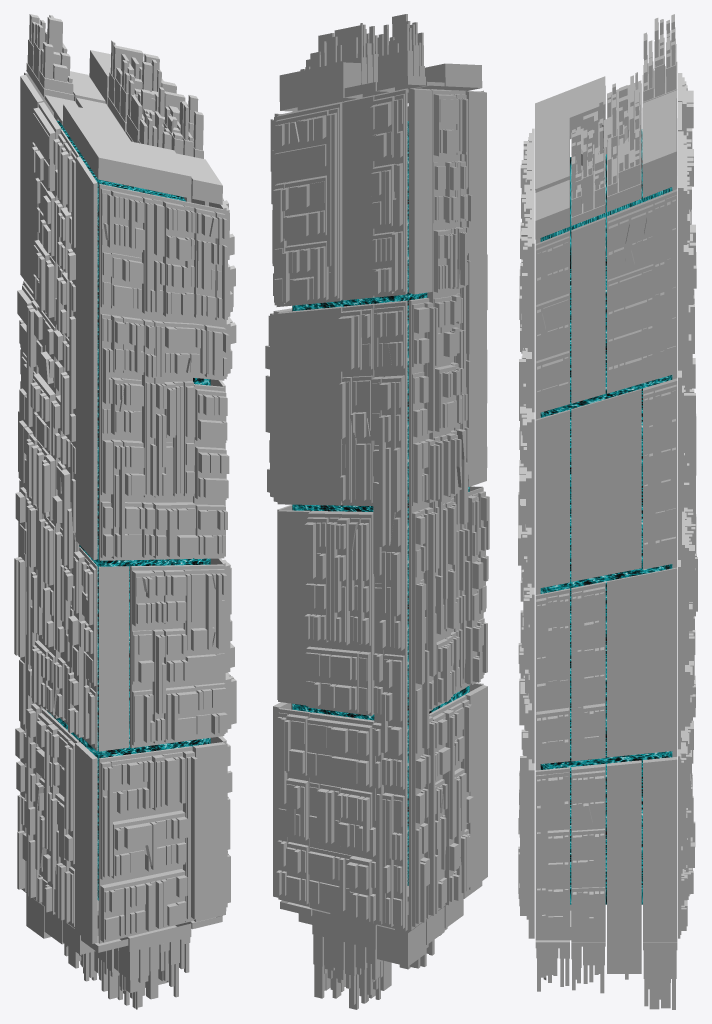
3 renders of one model, left to right at view 1: azimuth 30°, elevation 25°; view 2: azimuth 150°, elevation 25°; view 3: azimuth 270°, elevation 25°, orthographic. The views are drawn at different scales.
Parts seen in each view (by area): view 1: PILLAR_ALPHA_0; view 2: PILLAR_ALPHA_0; view 3: PILLAR_ALPHA_0.
Part boxes in pixels (x1,y1,x2,y2): PILLAR_ALPHA_0: (14,14,236,1009); PILLAR_ALPHA_0: (265,14,489,1009); PILLAR_ALPHA_0: (518,14,697,1009).
Size of the model in its own units: 2.93 by 17.23 by 2.93.
